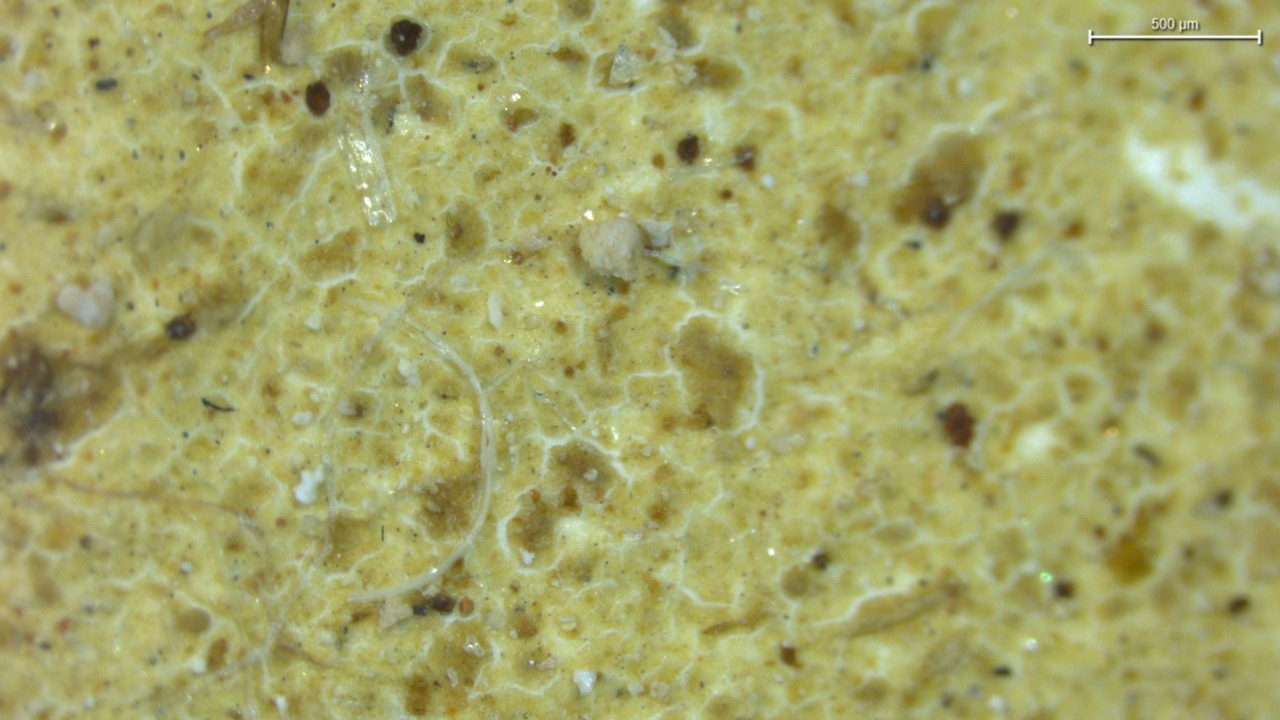microplastic_fragment: (578, 216, 644, 281)
